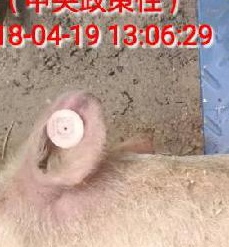text: (41, 101, 91, 155)
